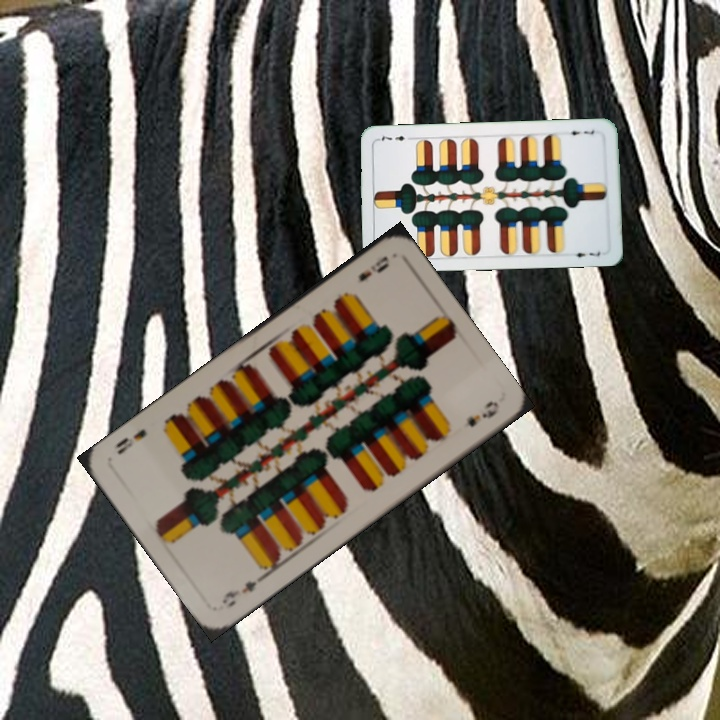E7: (562, 126, 597, 138)
E9: (218, 570, 268, 610), (354, 252, 392, 284)
